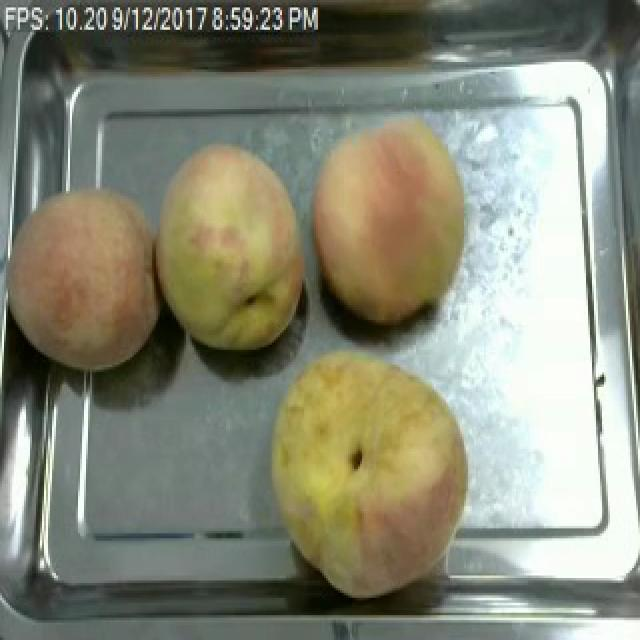Fruit: (260, 340, 480, 610), (302, 107, 476, 335), (146, 134, 316, 362), (6, 173, 172, 380)
